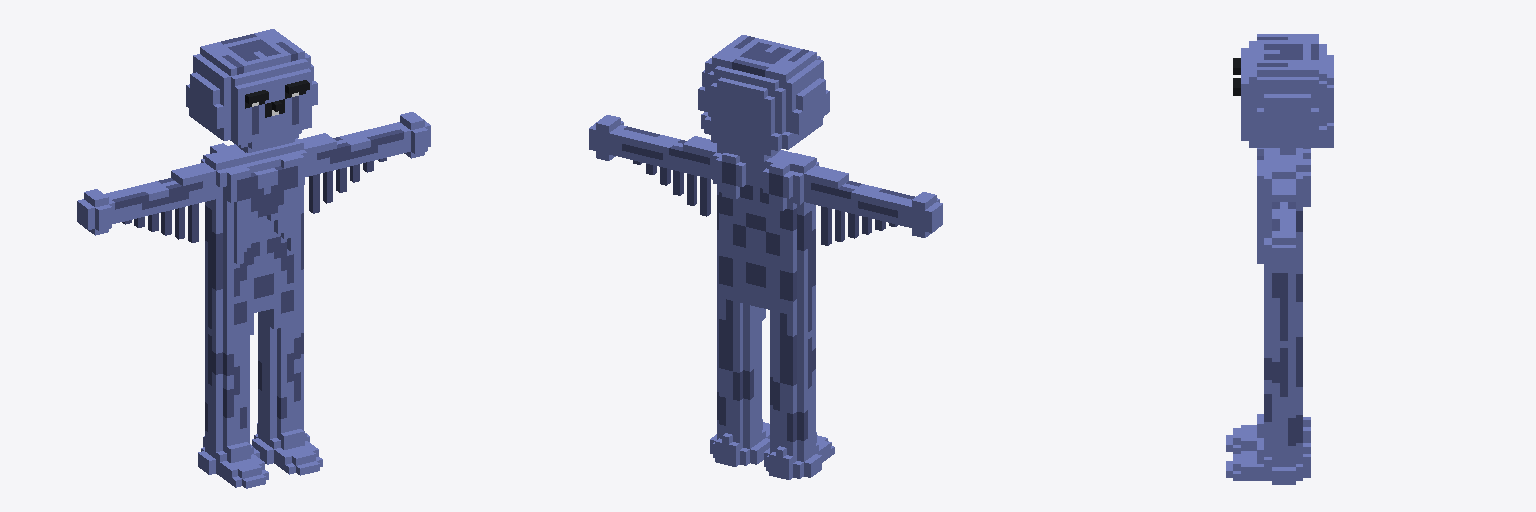
3 renders of one model, left to right at view 1: azimuth 30°, elevation 25°; view 2: azimuth 150°, elevation 25°; view 3: azimuth 270°, elevation 25°, orthographic.
Visible parts, largest first — view 1: object 1; view 2: object 1; view 3: object 1.
Boxes of the visible parts, <box> form: object 1: <box>77,29,430,488</box>; object 1: <box>589,35,942,479</box>; object 1: <box>1226,34,1333,484</box>.
Bounding box in the file's own units: 5.1 × 5.8 × 1.4.
1 materials, 1 textured.